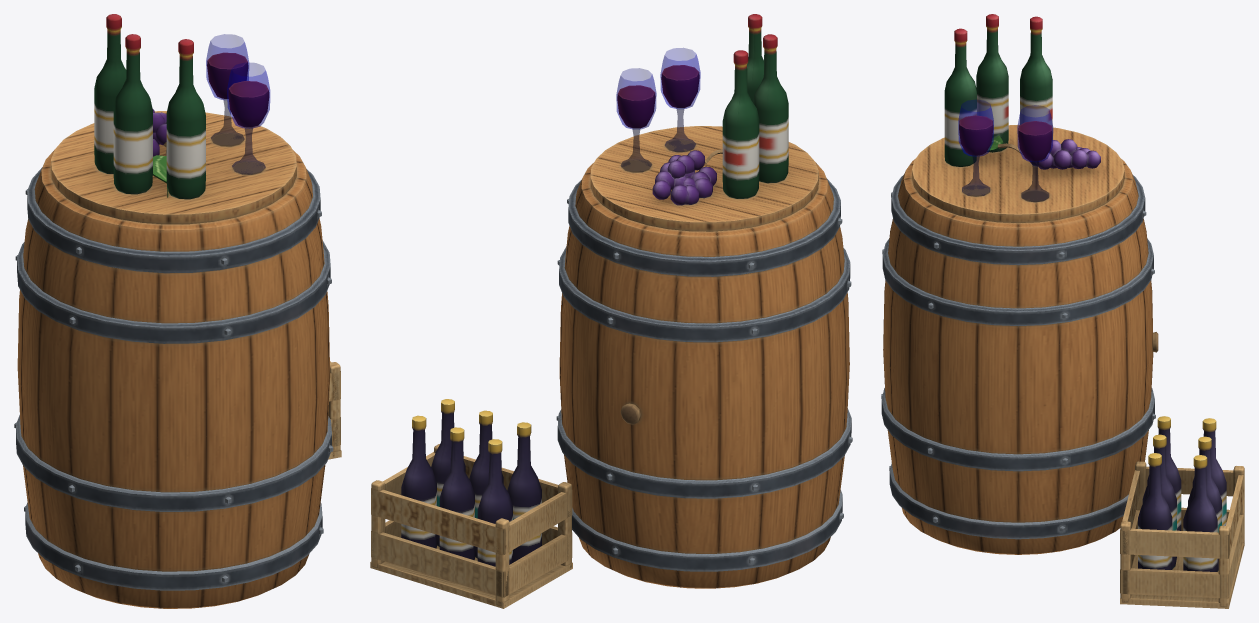
Rendered from wine-barrel.fbx.
3 renders of one model, left to right at view 1: azimuth 30°, elevation 25°; view 2: azimuth 150°, elevation 25°; view 3: azimuth 270°, elevation 25°, orthographic. The views are drawn at different scales.
Parts seen in each view (by area): view 1: Body; view 2: Body; view 3: Body.
Part boxes in pixels (x1,y1,x2,y2): Body: (14, 14, 341, 608); Body: (370, 14, 852, 608); Body: (881, 14, 1244, 608).
Bounding box in the file's own units: 0.8547 × 1.18 × 0.8311.
